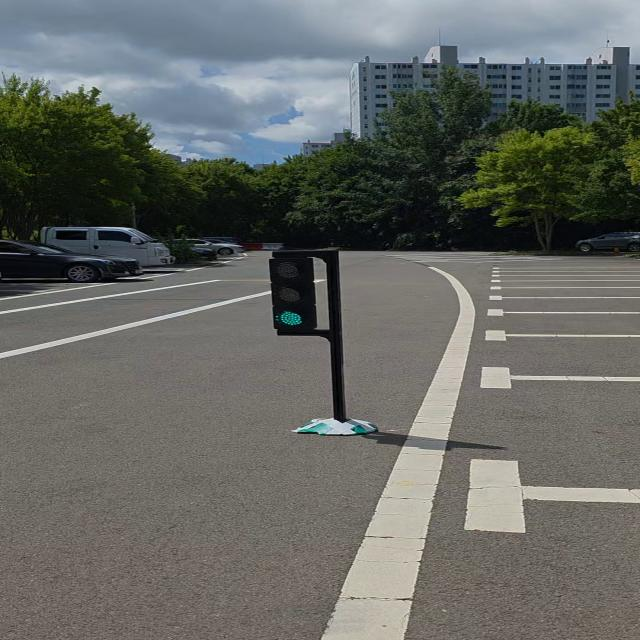green: (270, 254, 324, 336)
